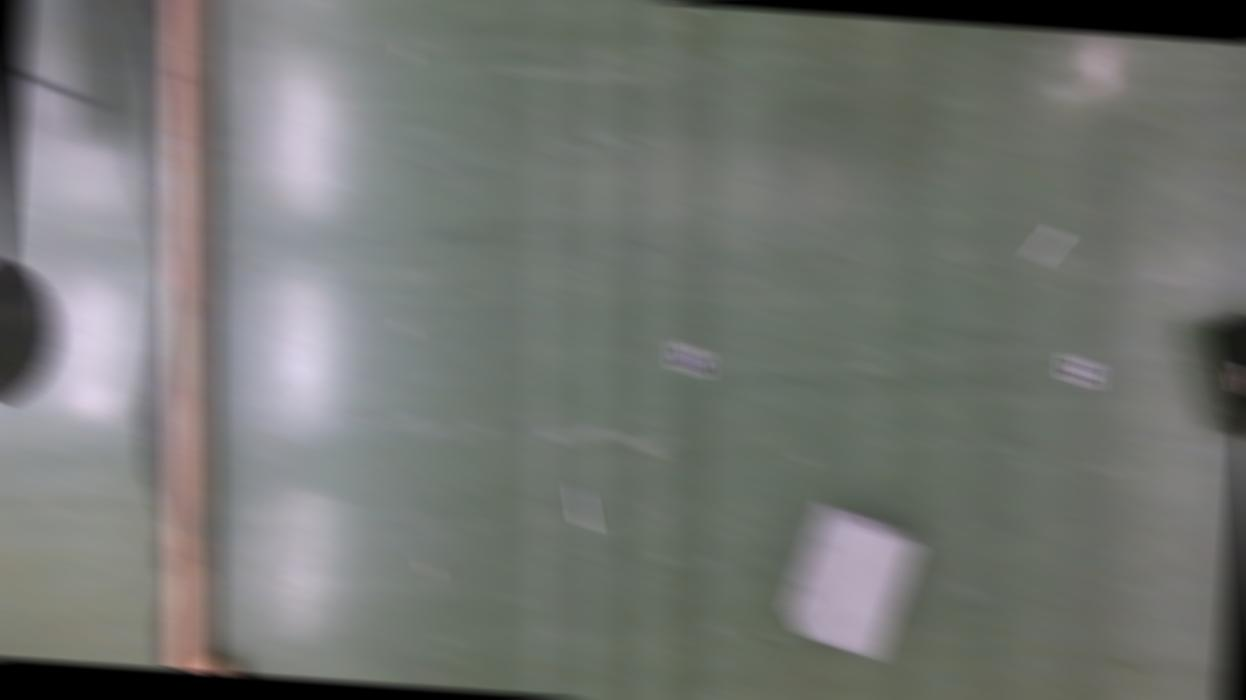probes: (1029, 223, 1065, 264), (568, 482, 596, 530)
rako: (780, 497, 921, 661), (1197, 299, 1246, 440)
